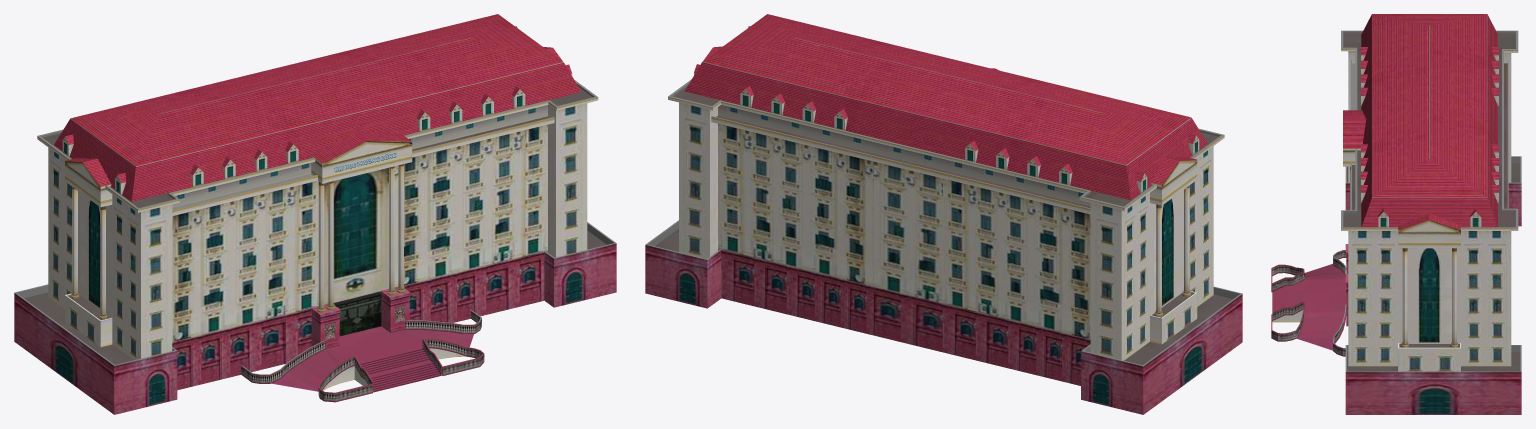
3 renders of one model, left to right at view 1: azimuth 30°, elevation 25°; view 2: azimuth 150°, elevation 25°; view 3: azimuth 270°, elevation 25°, orthographic. The views are drawn at different scales.
Parts seen in each view (by area): view 1: HN811_PhuongDongUniversity; view 2: HN811_PhuongDongUniversity; view 3: HN811_PhuongDongUniversity.
Boxes of the visible parts, <box> form: HN811_PhuongDongUniversity: <box>14,14,616,414</box>; HN811_PhuongDongUniversity: <box>645,14,1242,414</box>; HN811_PhuongDongUniversity: <box>1271,14,1521,414</box>.
Bounding box in the file's own units: 72 × 33.32 × 35.37.
Materials: 1 (1 with a texture image).
